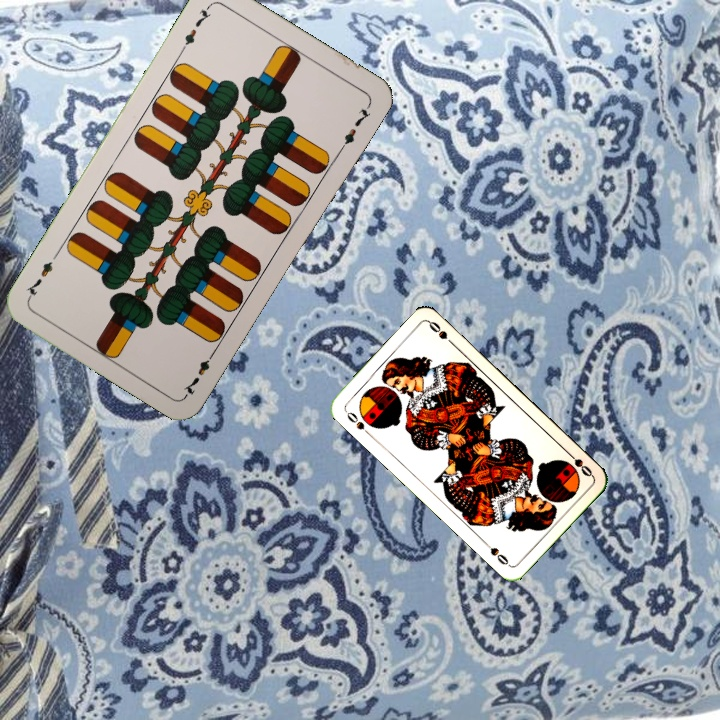E7: (179, 345, 219, 398), (177, 1, 214, 55)
SO: (562, 447, 595, 479), (341, 407, 374, 439)
